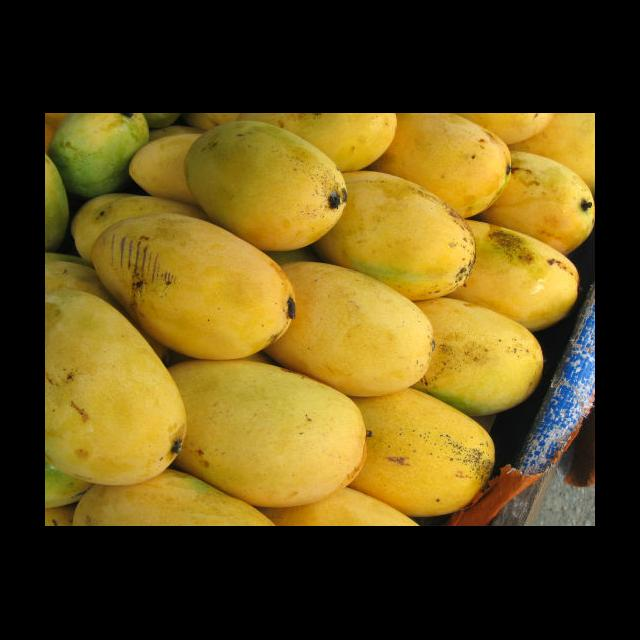mango: (90, 214, 297, 362), (168, 360, 366, 510), (45, 290, 187, 488), (261, 262, 434, 398), (183, 122, 349, 254), (311, 172, 476, 304), (348, 390, 496, 518), (411, 298, 546, 420), (370, 114, 512, 220), (448, 222, 580, 334), (473, 152, 595, 256), (69, 470, 275, 526), (238, 114, 398, 174), (70, 194, 209, 262), (46, 114, 150, 204), (256, 488, 419, 526), (127, 128, 206, 206), (45, 254, 119, 308), (450, 114, 557, 148)
